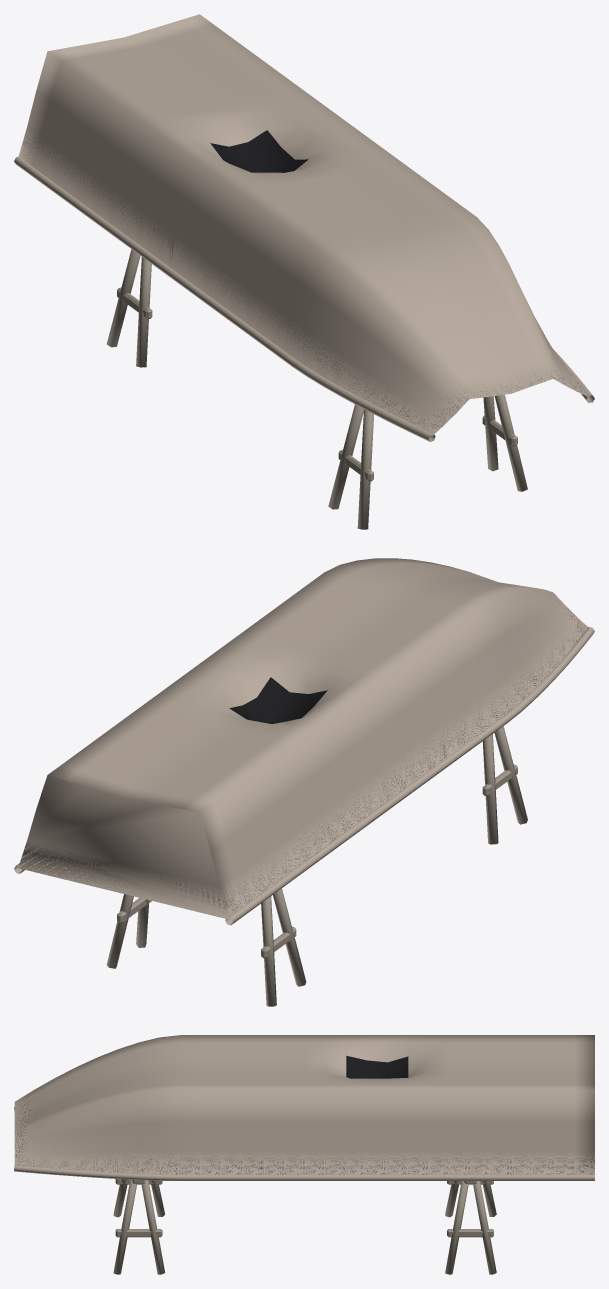
Rendered from upturned_boat.glb.
3 renders of one model, top to bottom at view 1: azimuth 30°, elevation 25°; view 2: azimuth 150°, elevation 25°; view 3: azimuth 270°, elevation 25°, orthographic. The views are drawn at different scales.
Parts seen in each view (by area): view 1: upturned_boat; view 2: upturned_boat; view 3: upturned_boat.
Boxes of the visible parts, box(x1,y1,x2,y2) form: upturned_boat: box(14, 14, 594, 529); upturned_boat: box(14, 558, 594, 1006); upturned_boat: box(14, 1035, 594, 1274).
Bounding box in the file's own units: 1.37 × 1.46 × 4.2.
